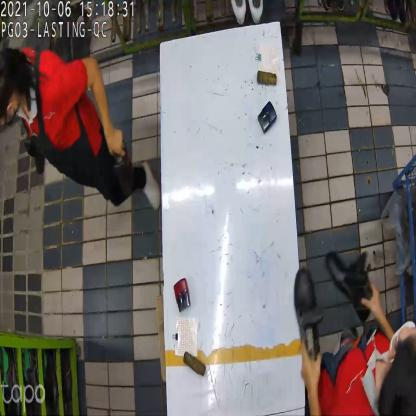shoes: (290, 250, 372, 364)
stamp: (174, 280, 193, 315), (258, 101, 276, 135)
